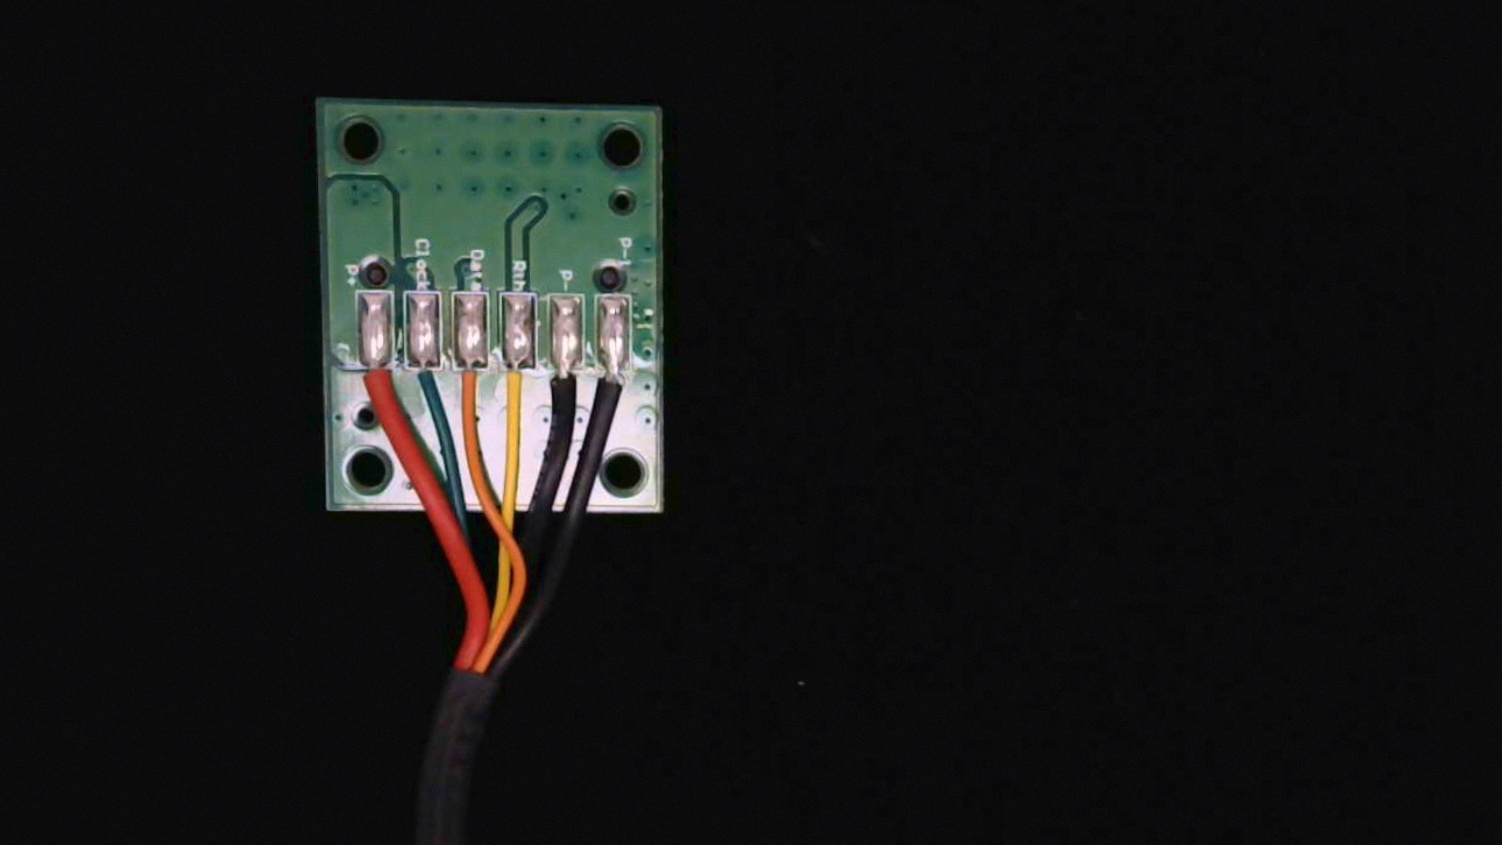Black: (548, 351, 582, 420)
Black1: (594, 352, 630, 421)
Green: (404, 346, 443, 411)
Orange: (451, 349, 491, 413)
Red: (359, 345, 391, 410)
Yellow: (497, 352, 537, 422)
